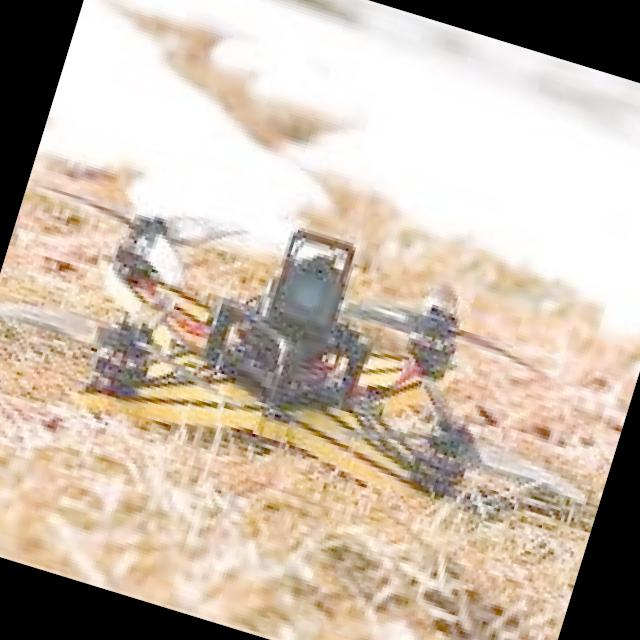drone: (0, 151, 640, 589)
